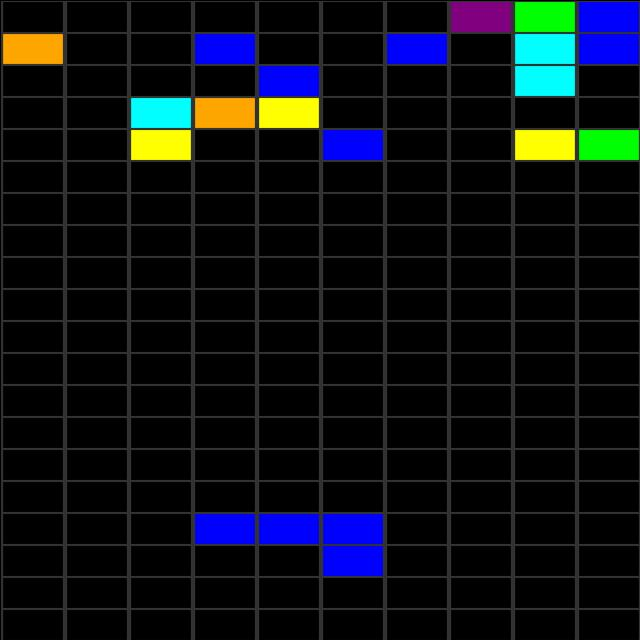Tetrimino_S: (190, 513, 382, 575)
